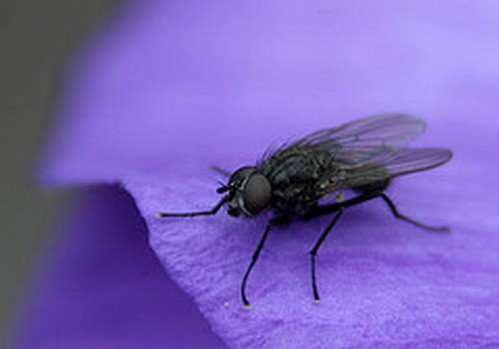phorid fly: (129, 103, 456, 310)
